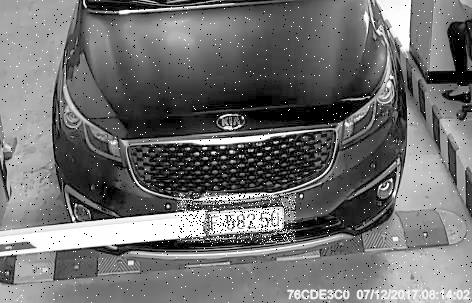License-plate: (179, 194, 298, 244)
